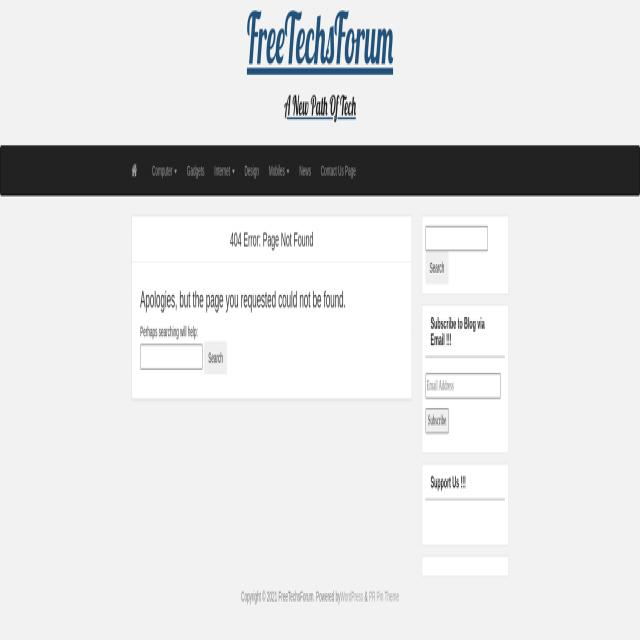button: (240, 1, 402, 90), (316, 147, 360, 195), (147, 147, 182, 195), (210, 147, 240, 195), (264, 147, 294, 195), (182, 147, 210, 195), (240, 147, 264, 195), (294, 147, 316, 195), (204, 342, 227, 374), (127, 147, 142, 195), (426, 252, 448, 284), (425, 408, 449, 433)
field: (425, 374, 501, 398), (425, 226, 488, 251), (140, 344, 203, 369)
